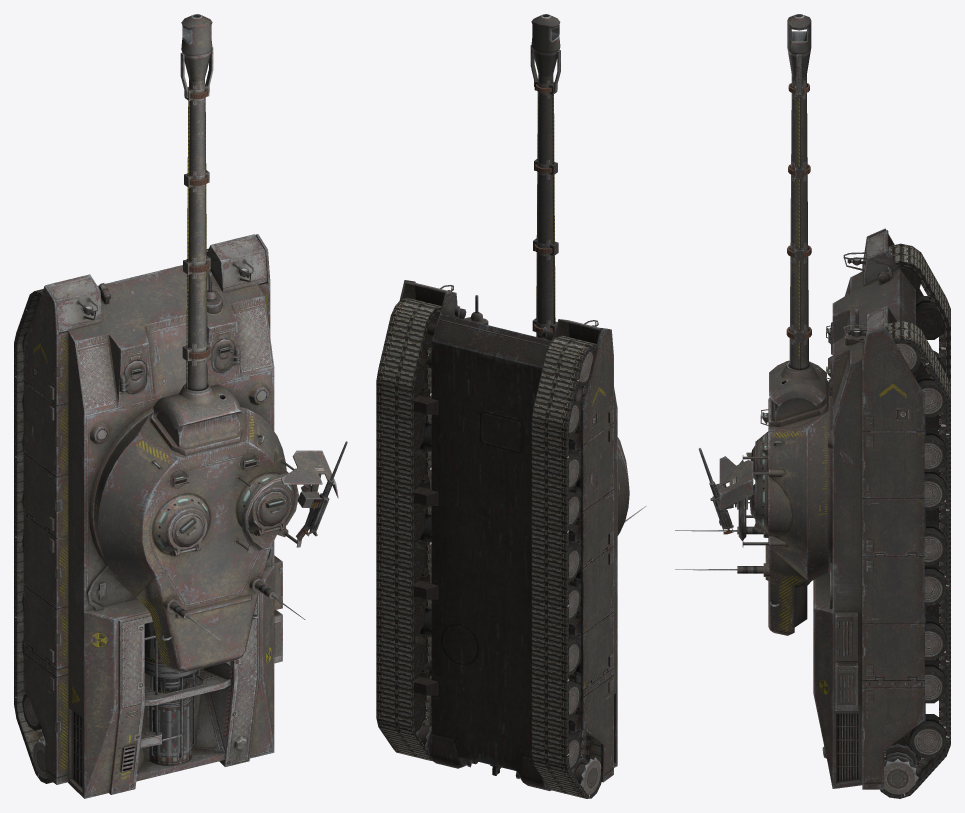
3 views of the same model, side by side, from view 1: azimuth 30°, elevation 25°; view 2: azimuth 150°, elevation 25°; view 3: azimuth 270°, elevation 25° (orthographic). The views are drawn at different scales.
Visible parts, largest first — view 1: hull, turret_01, hull_nc, gun_01, turret_01_nc, chassis_track_L, gun_01_mask; view 2: hull, chassis_track_R, chassis_track_L, gun_01, hull_nc, turret_01, chassis_wheel_L_15; view 3: hull, turret_01, gun_01, hull_nc, chassis_track_R, turret_01_nc, gun_01_mask, chassis_track_L, chassis_wheel_R_15, chassis_wheel_R_14, chassis_wheel_L_02, chassis_wheel_R_04 (+6 smaller).
Part boxes in pixels (x1,y1,x2,y2): hull: (23,234,274,798); turret_01: (93,407,298,672); hull_nc: (45,234,282,772); gun_01: (180,14,213,390); turret_01_nc: (152,434,347,640); chassis_track_L: (14,289,67,783); gun_01_mask: (153,383,242,429); hull: (399,280,617,790); chassis_track_R: (376,298,441,760); chassis_track_L: (531,335,601,798); gun_01: (530,14,560,340); hull_nc: (405,281,613,778); turret_01: (617,437,629,535); chassis_wheel_L_15: (571,757,601,794); hull: (813,228,924,789); turret_01: (746,379,828,635); gun_01: (786,14,811,370); hull_nc: (822,230,925,758); chassis_track_R: (880,320,950,798); turret_01_nc: (675,441,787,606); gun_01_mask: (769,360,826,406); chassis_track_L: (888,243,950,385); chassis_wheel_R_15: (884,743,918,794); chassis_wheel_R_14: (909,714,945,758); chassis_wheel_L_02: (916,296,945,339); chassis_wheel_R_04: (924,428,945,471).
Size of the model in its own units: 3.37 by 11.58 by 3.92.
Materials: 2 (2 with a texture image).
